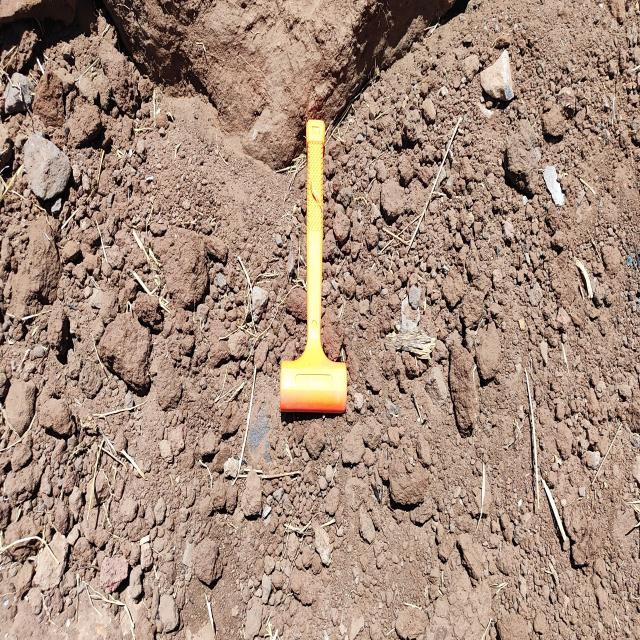Orange_hammer: (278, 118, 348, 414)
